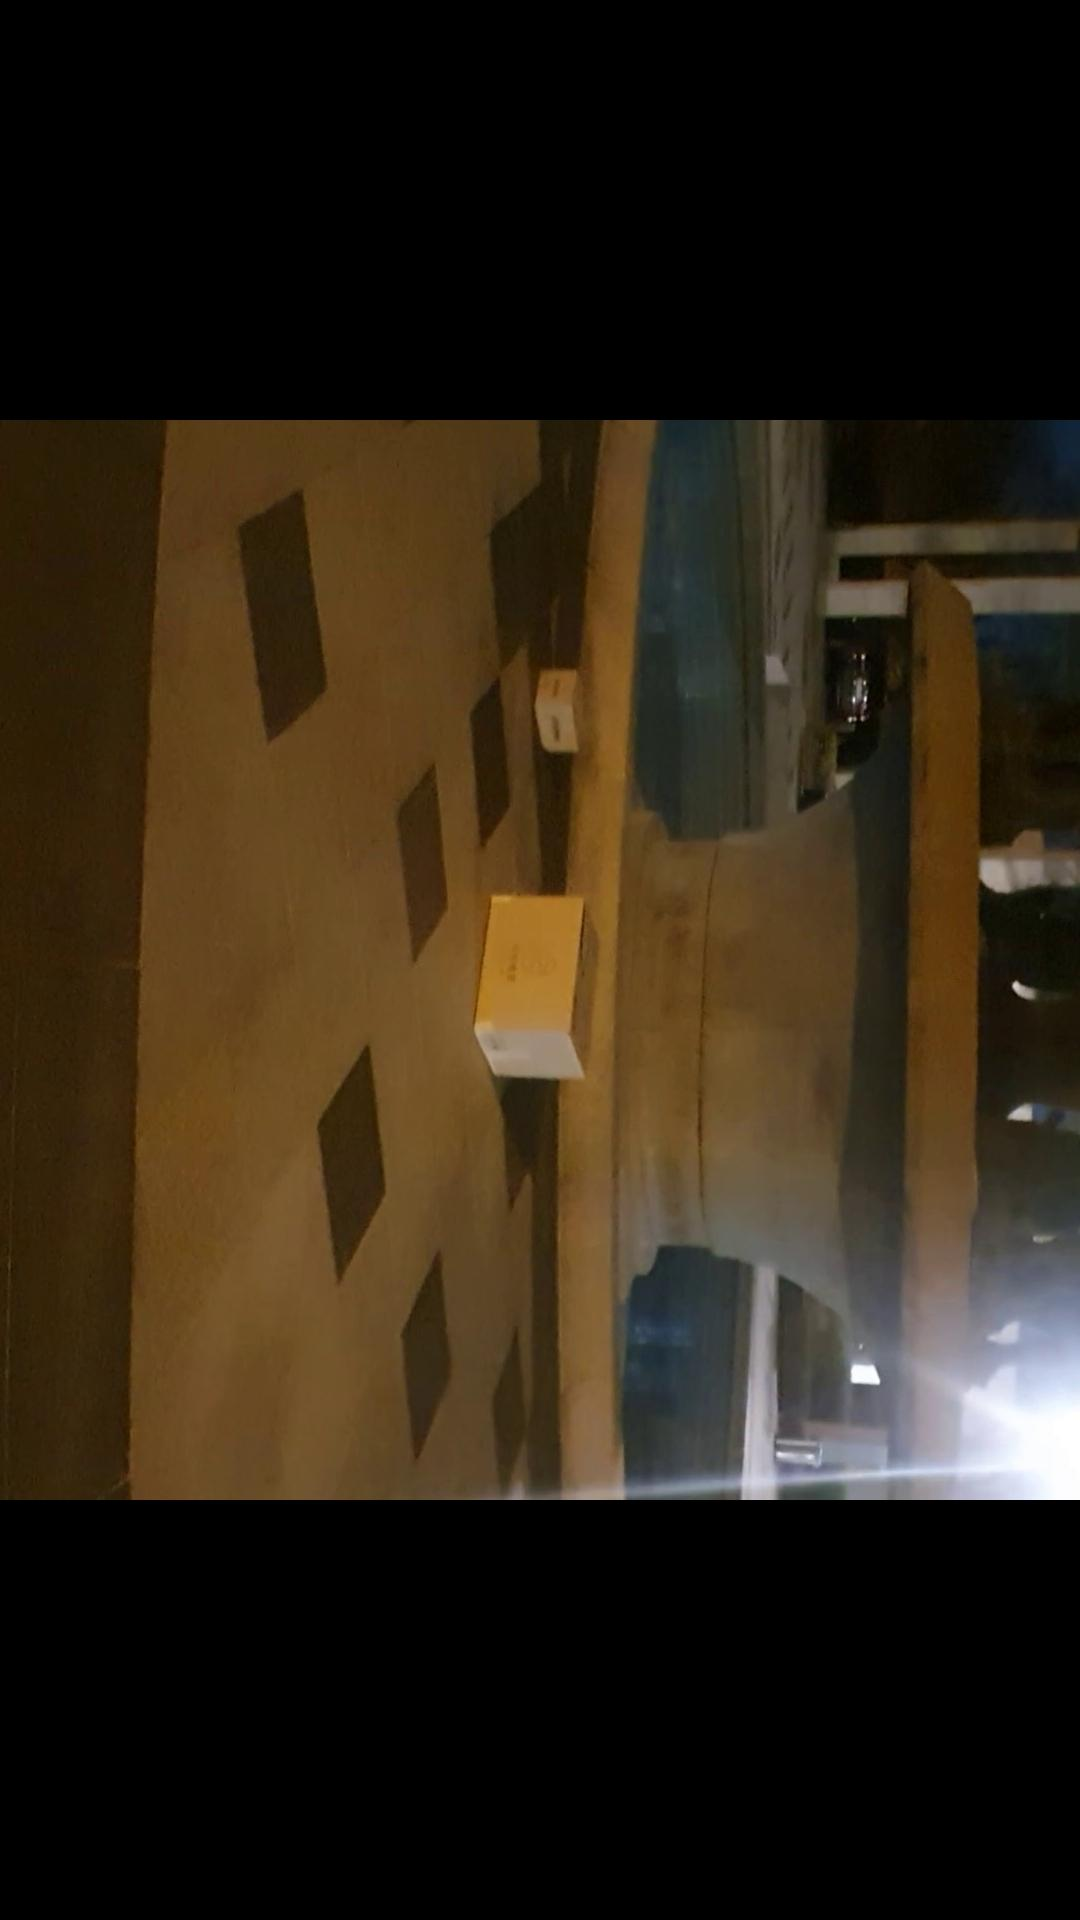Box: (458, 886, 603, 1097), (525, 658, 597, 760)
